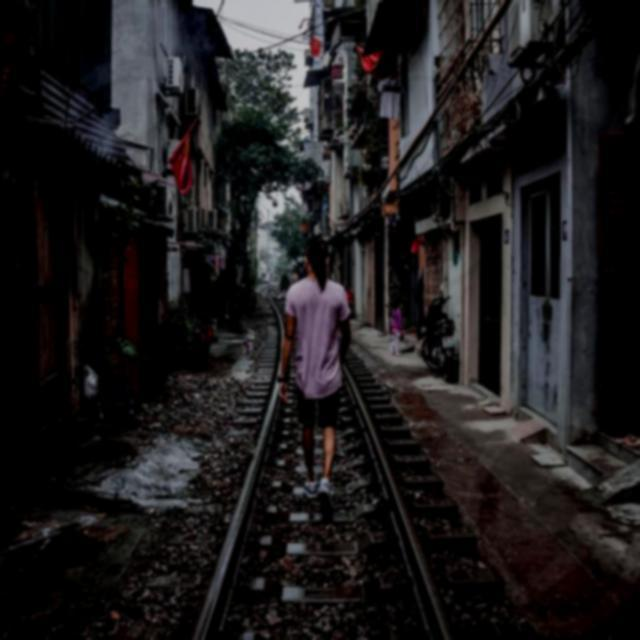danger: (277, 229, 355, 509)
rail: (344, 366, 452, 640), (194, 362, 280, 640)
